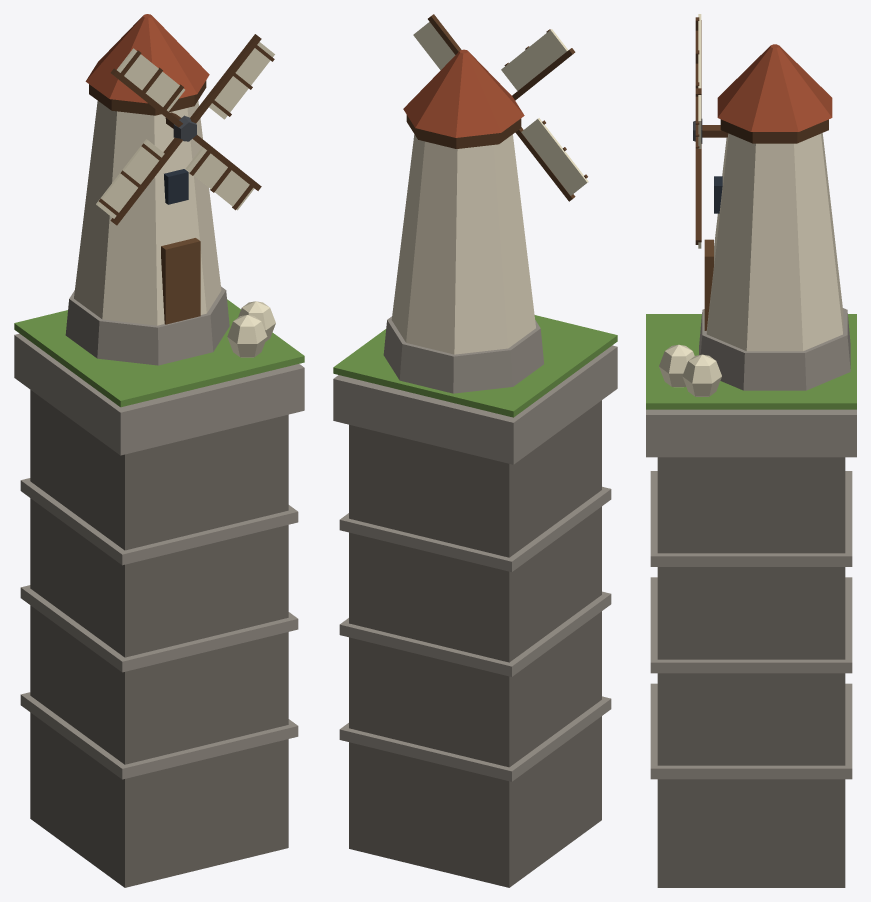
Rendered from decor_windmill_small.glb.
3 renders of one model, left to right at view 1: azimuth 30°, elevation 25°; view 2: azimuth 150°, elevation 25°; view 3: azimuth 270°, elevation 25°, orthographic. The views are drawn at different scales.
Visible parts, largest first — view 1: decor_windmill_small; view 2: decor_windmill_small; view 3: decor_windmill_small.
Part boxes in pixels (x1=…): decor_windmill_small: x1=14, y1=14, x2=304, y2=887; decor_windmill_small: x1=333, y1=14, x2=617, y2=887; decor_windmill_small: x1=646, y1=14, x2=856, y2=887.
Bounding box in the file's own units: 1.8 × 7.62 × 1.8.
